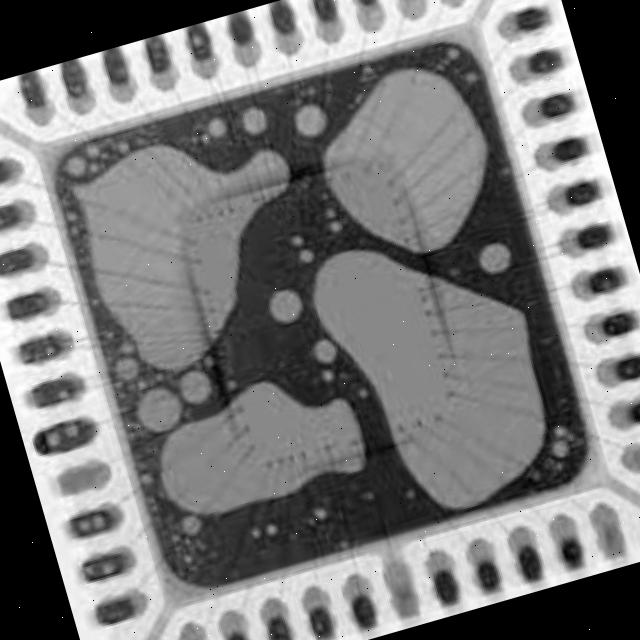chip: (37, 23, 608, 612)
void: (312, 248, 546, 506), (70, 146, 288, 370), (324, 66, 486, 250), (159, 379, 364, 514), (112, 340, 213, 439), (530, 423, 583, 480), (60, 137, 127, 177), (265, 286, 302, 324), (295, 102, 327, 137), (477, 243, 509, 272), (286, 234, 313, 263), (431, 45, 460, 71), (240, 106, 265, 136), (311, 337, 336, 363), (205, 116, 226, 140), (323, 206, 341, 233), (179, 515, 204, 534), (356, 64, 379, 83), (461, 68, 477, 85), (310, 507, 329, 520), (264, 521, 279, 537), (356, 386, 369, 400), (249, 523, 260, 538), (322, 368, 333, 380)
